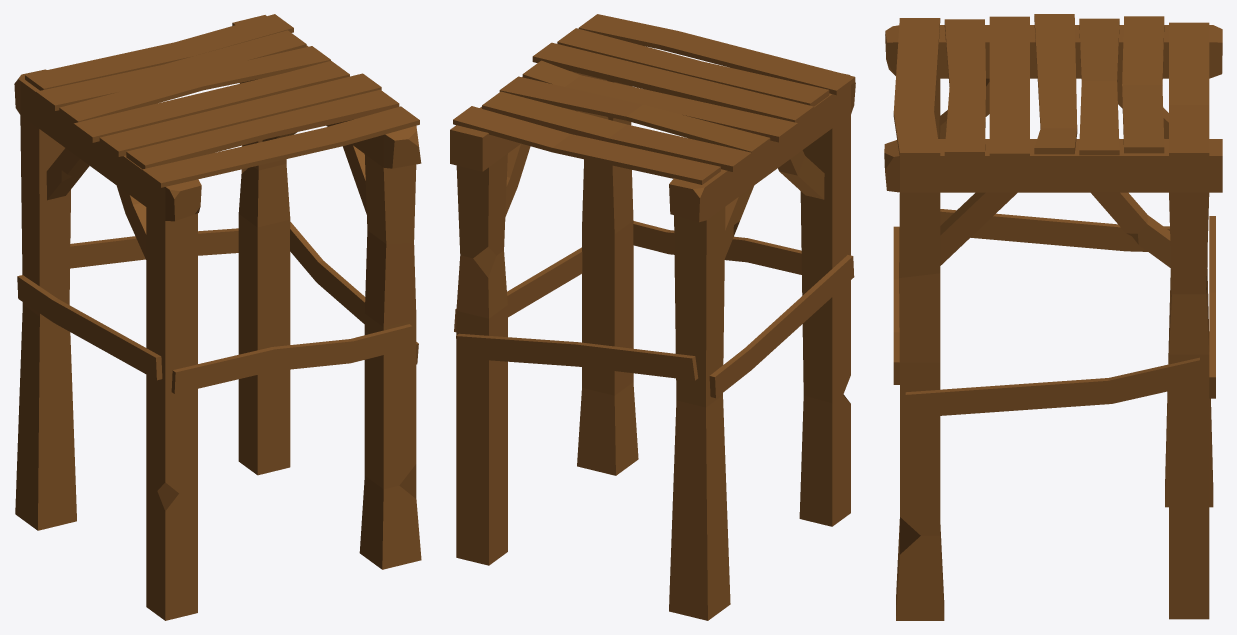
The model's file is WoodenScaffolding.001.fbx.
3 views of the same model, side by side, from view 1: azimuth 30°, elevation 25°; view 2: azimuth 150°, elevation 25°; view 3: azimuth 270°, elevation 25° (orthographic). The views are drawn at different scales.
Visible parts, largest first — view 1: WoodenScaffolding.001; view 2: WoodenScaffolding.001; view 3: WoodenScaffolding.001.
Boxes of the visible parts, x1,y1,x2,y2 form: WoodenScaffolding.001: (14, 14, 421, 620); WoodenScaffolding.001: (450, 14, 855, 620); WoodenScaffolding.001: (884, 14, 1222, 620).
Size of the model in its own units: 2.46 by 3.87 by 2.52.
